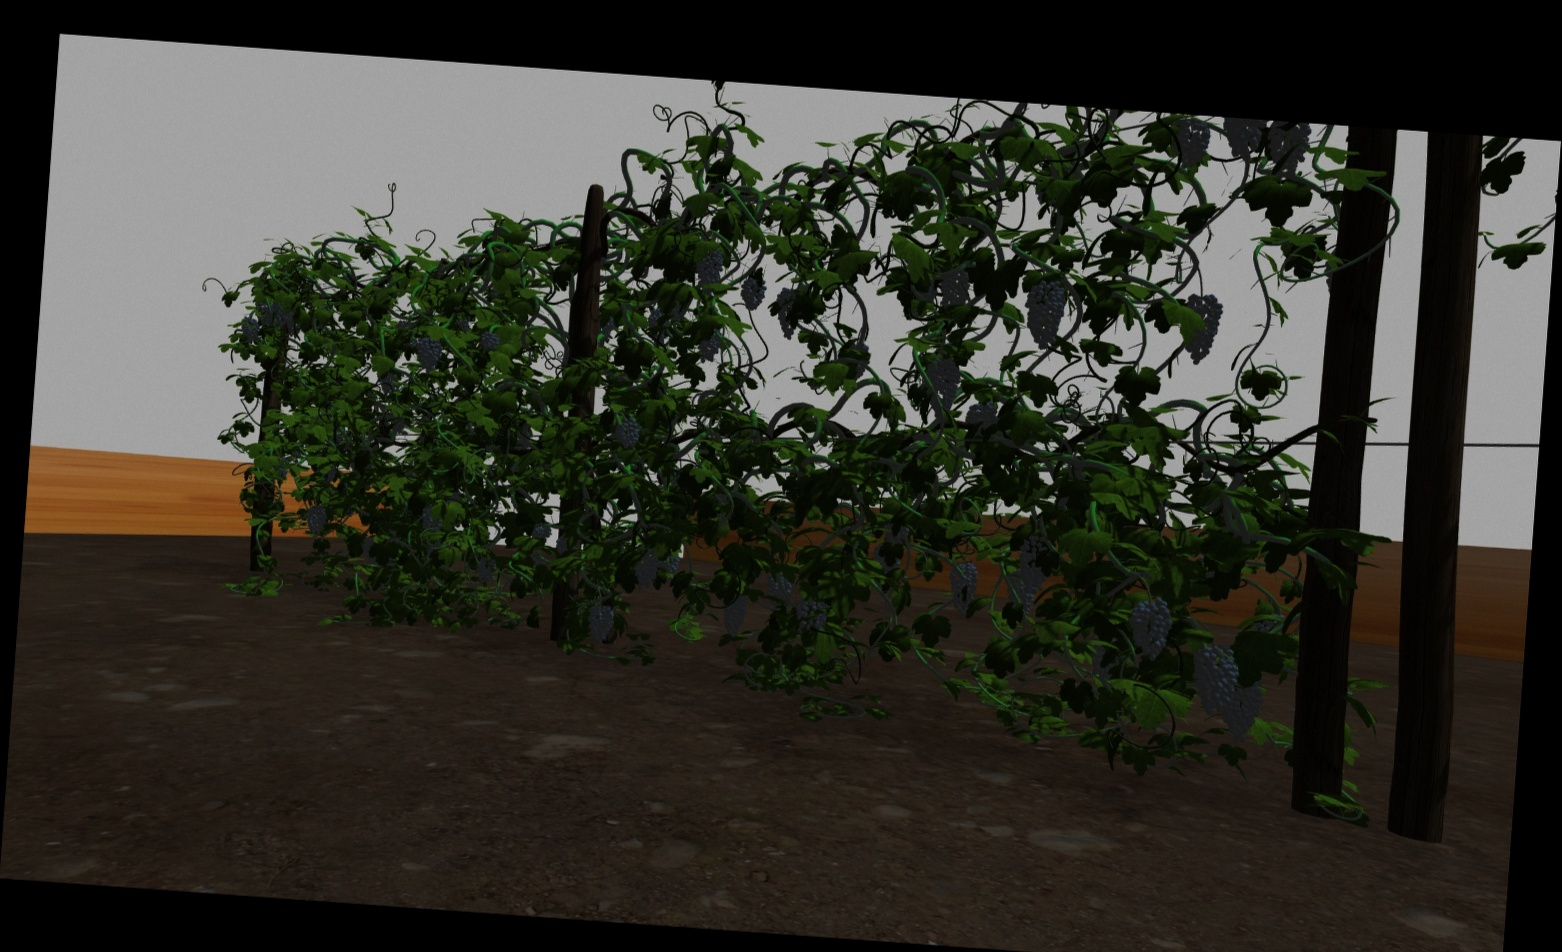grape: (1188, 646, 1238, 711), (1180, 294, 1226, 364), (1127, 592, 1171, 662), (1024, 278, 1067, 350), (1219, 677, 1264, 740), (1018, 535, 1052, 594), (1266, 127, 1310, 173), (1170, 121, 1209, 169), (924, 355, 963, 402), (772, 286, 802, 340), (1222, 123, 1263, 158), (695, 246, 725, 294), (949, 561, 978, 610), (941, 268, 970, 314), (720, 592, 749, 637), (1004, 576, 1034, 619), (584, 603, 614, 644), (631, 552, 661, 592), (739, 273, 766, 312), (613, 411, 639, 450), (793, 599, 826, 629), (766, 571, 792, 608), (417, 335, 441, 373), (475, 552, 496, 587), (305, 504, 326, 535), (420, 504, 442, 532), (272, 300, 295, 328), (479, 328, 501, 353), (530, 520, 553, 540), (240, 317, 259, 342), (662, 552, 681, 573)
